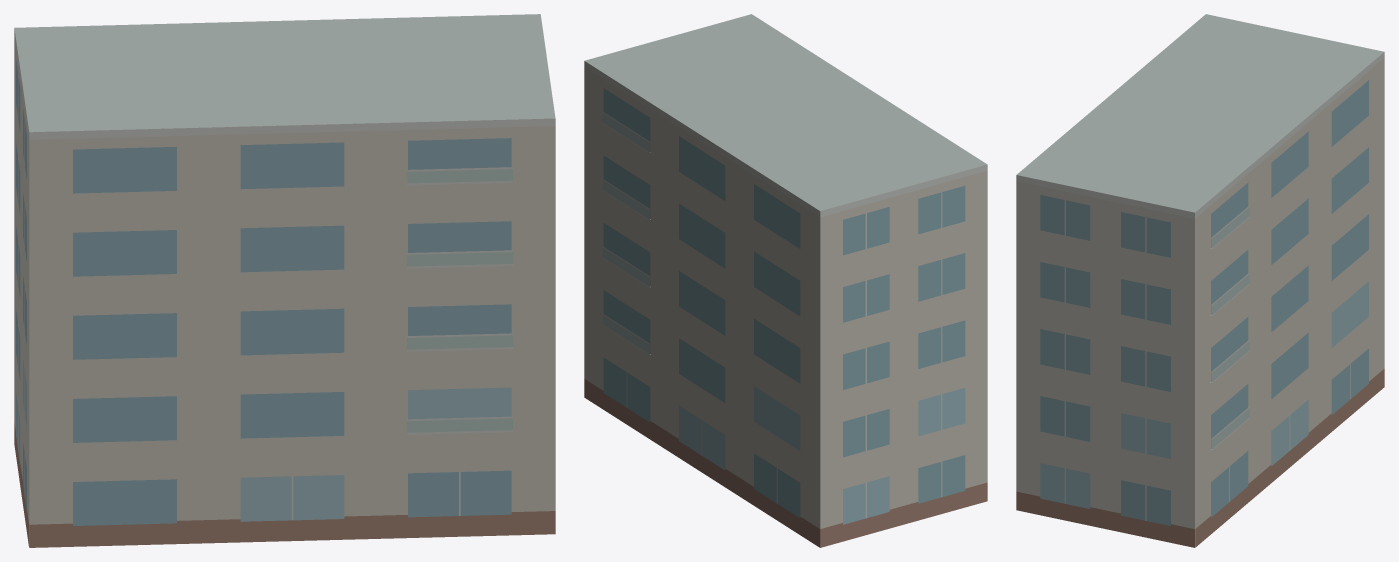
Rendered from survey-upis-32842928.glb.
3 views of the same model, side by side, from view 1: azimuth 30°, elevation 25°; view 2: azimuth 150°, elevation 25°; view 3: azimuth 270°, elevation 25° (orthographic). The views are drawn at different scales.
Visible parts, largest first — view 1: survey-upis-32842928.tmp; view 2: survey-upis-32842928.tmp; view 3: survey-upis-32842928.tmp.
Part boxes in pixels (bbox=[...]): survey-upis-32842928.tmp: bbox=[14, 14, 555, 547]; survey-upis-32842928.tmp: bbox=[584, 14, 987, 547]; survey-upis-32842928.tmp: bbox=[1016, 14, 1384, 547].
Size of the model in its own units: 17.04 by 13.4 by 13.35.
